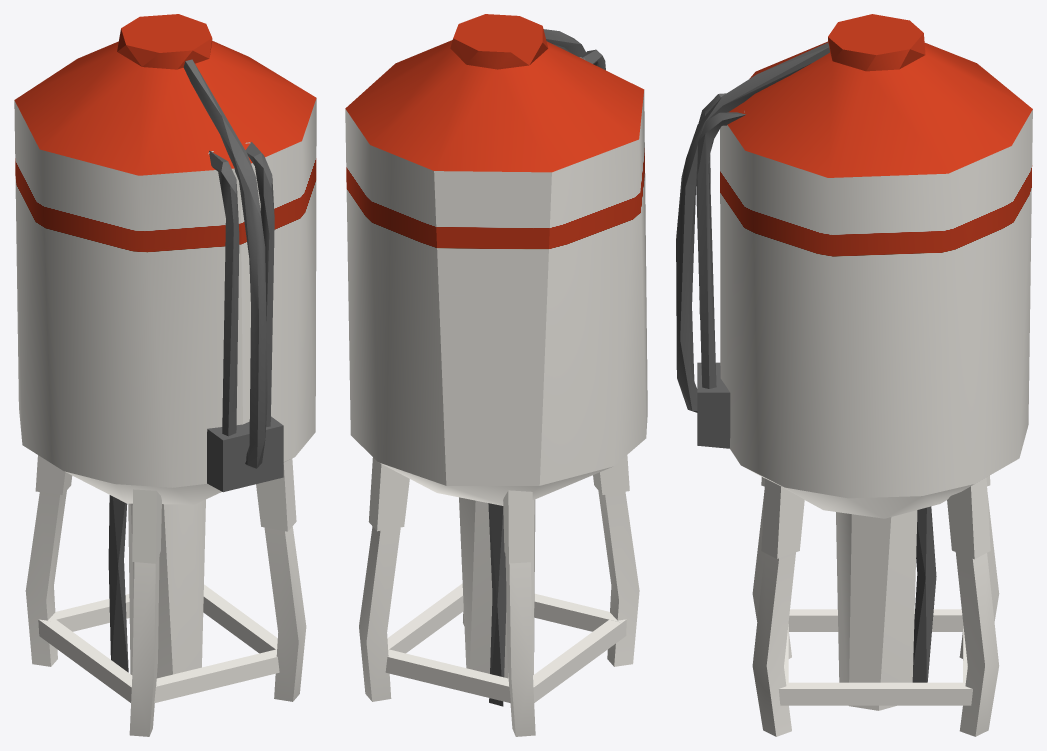
The model's file is watertowerfixedcollision.fbx.
3 renders of one model, left to right at view 1: azimuth 30°, elevation 25°; view 2: azimuth 150°, elevation 25°; view 3: azimuth 270°, elevation 25°, orthographic. The views are drawn at different scales.
Visible parts, largest first — view 1: Cylinder.003; view 2: Cylinder.003; view 3: Cylinder.003.
Boxes of the visible parts, x1=… form: Cylinder.003: x1=14, y1=14, x2=316, y2=736; Cylinder.003: x1=345, y1=14, x2=647, y2=736; Cylinder.003: x1=676, y1=14, x2=1032, y2=736.
Bounding box in the file's own units: 243 × 572 × 279.
